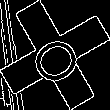O_NE: (22, 24, 88, 86)
